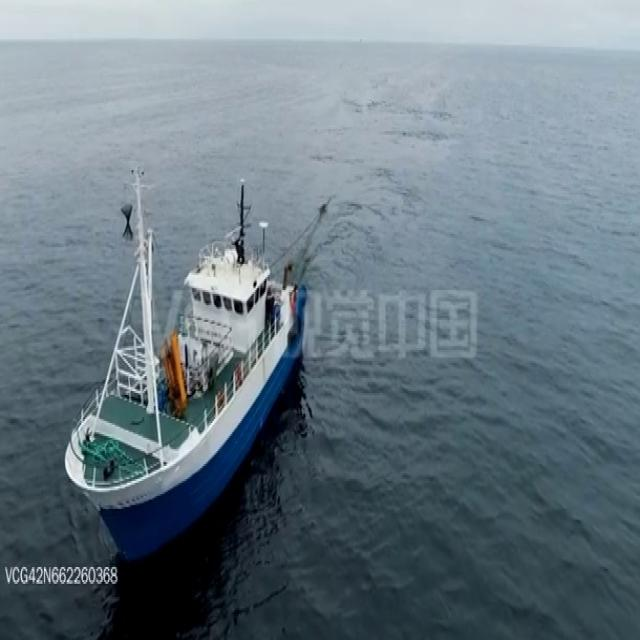fishing boat: (59, 164, 308, 560)
